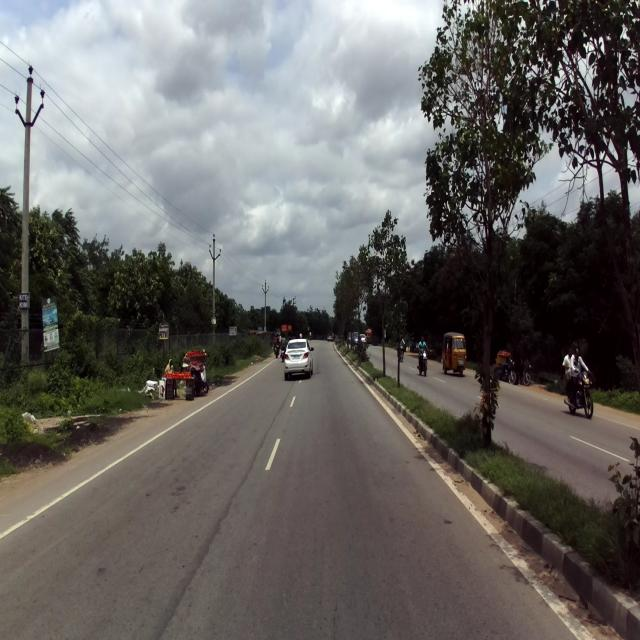Car_Hyundai: (284, 335, 314, 378)
